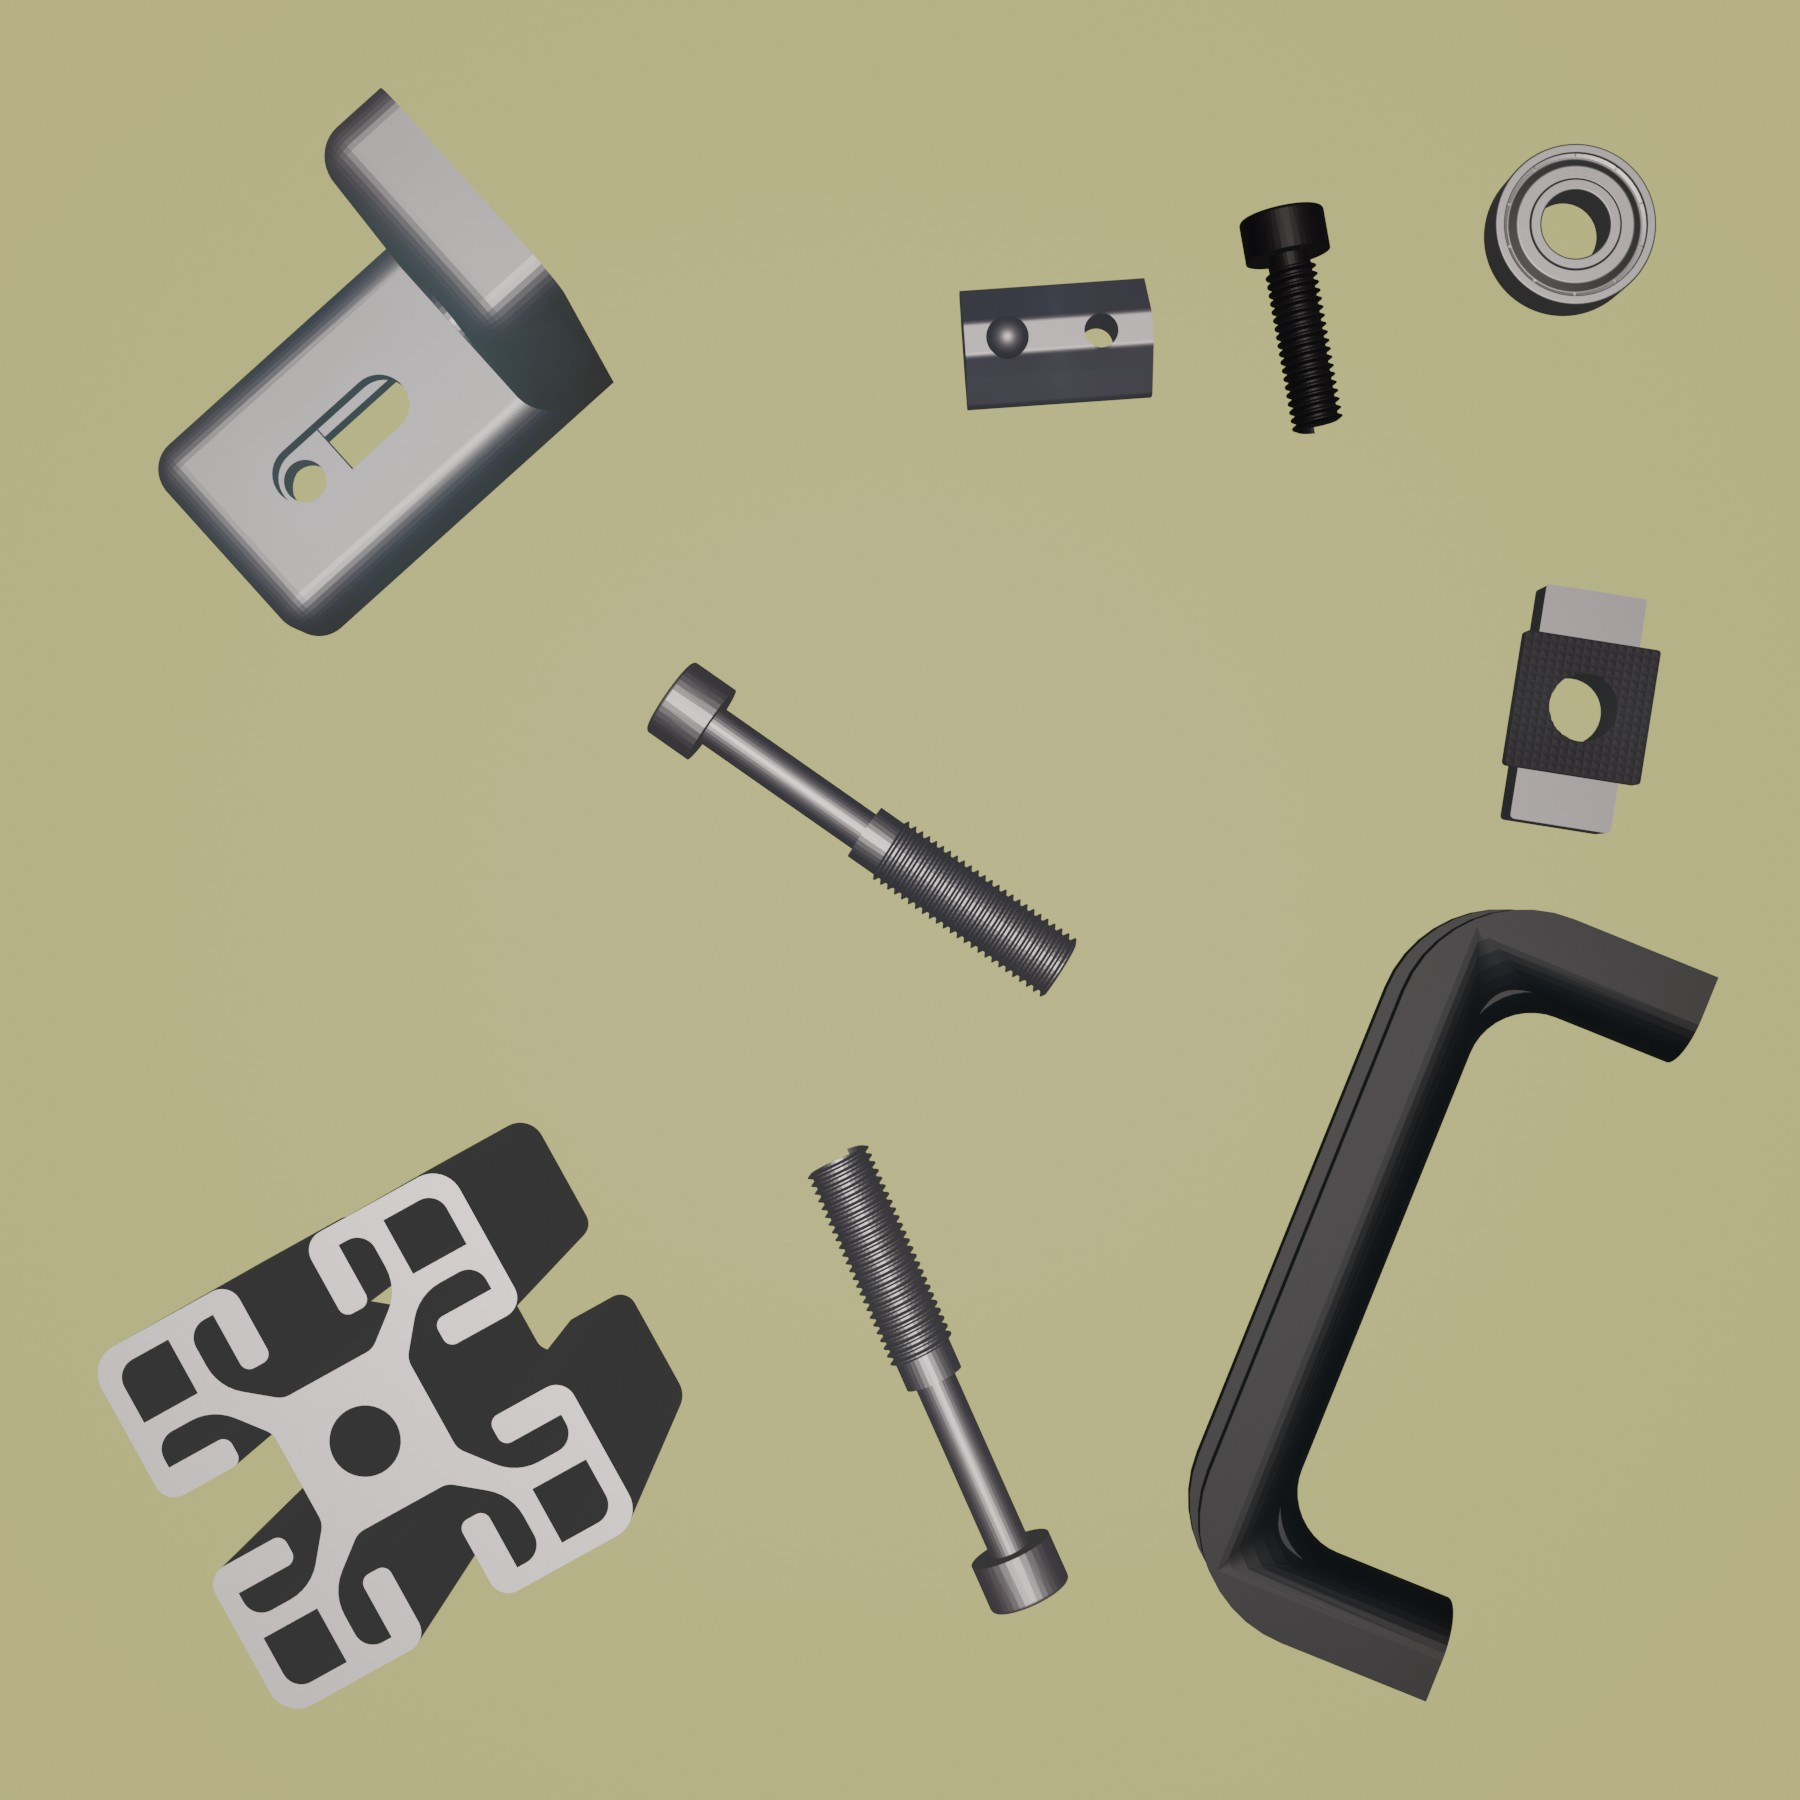Aluminium Extension: (96, 1119, 682, 1713)
Ball Bearing: (1480, 138, 1662, 316)
Multiwinkel: (157, 84, 616, 638)
Pull Handle: (1185, 903, 1719, 1704)
Shoulder Socket Head Cap Screw: (643, 658, 1080, 1001), (804, 1142, 1071, 1615)
Socket Head Cap Screw: (1240, 201, 1347, 438)
T Nut Square: (1497, 580, 1666, 837)
T Spring Nut: (956, 274, 1159, 412)
